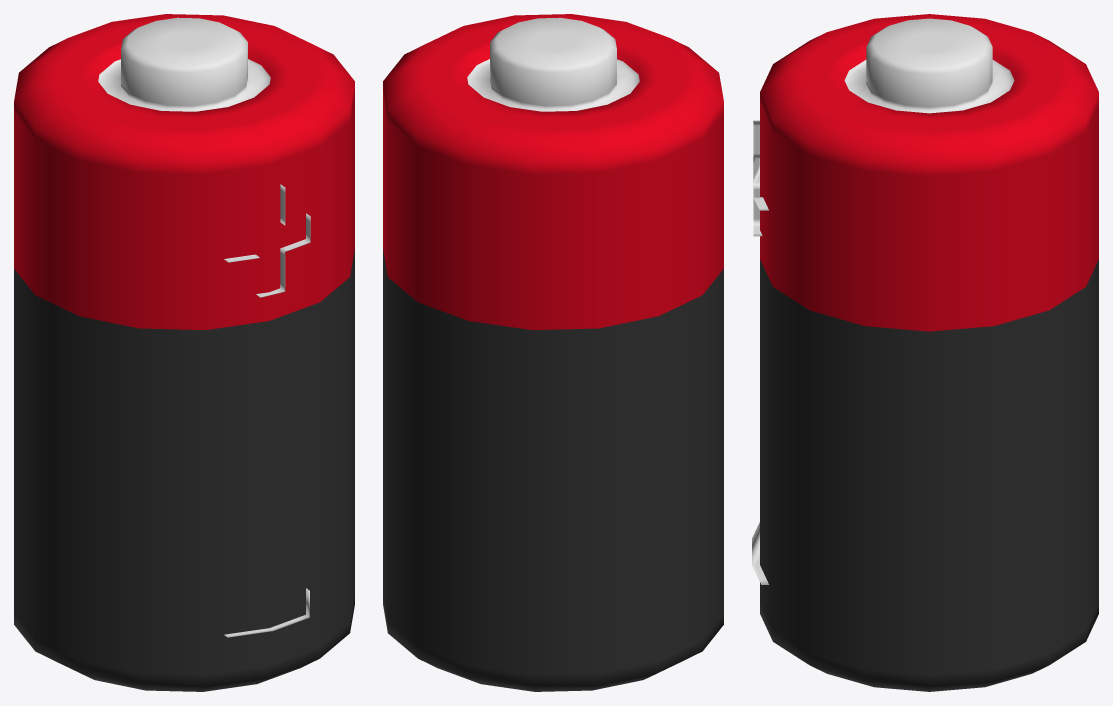
The model's file is Battery2.glb.
The picture shows the model from 3 angles, left to right: view 1: azimuth 30°, elevation 25°; view 2: azimuth 150°, elevation 25°; view 3: azimuth 270°, elevation 25°; orthographic projection.
Parts seen in each view (by area): view 1: Circle; view 2: Circle; view 3: Circle.
Part boxes in pixels (<box>): Circle: <box>14,14,354,691</box>; Circle: <box>383,14,723,691</box>; Circle: <box>752,14,1098,691</box>.
Size of the model in its own units: 2.78 by 5.25 by 2.81.
